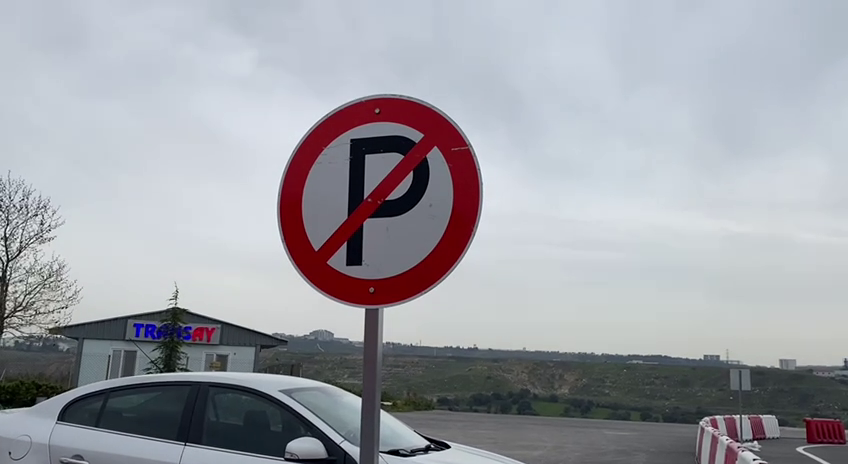noparking: (268, 86, 489, 315)
